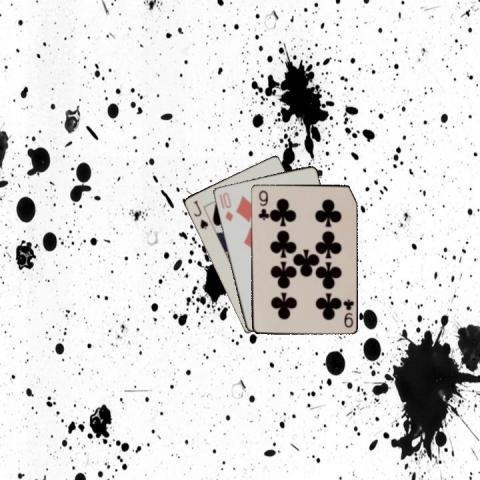10d: (219, 189, 234, 223)
9c: (340, 296, 355, 329), (256, 188, 268, 222)
Js: (190, 197, 209, 231)
